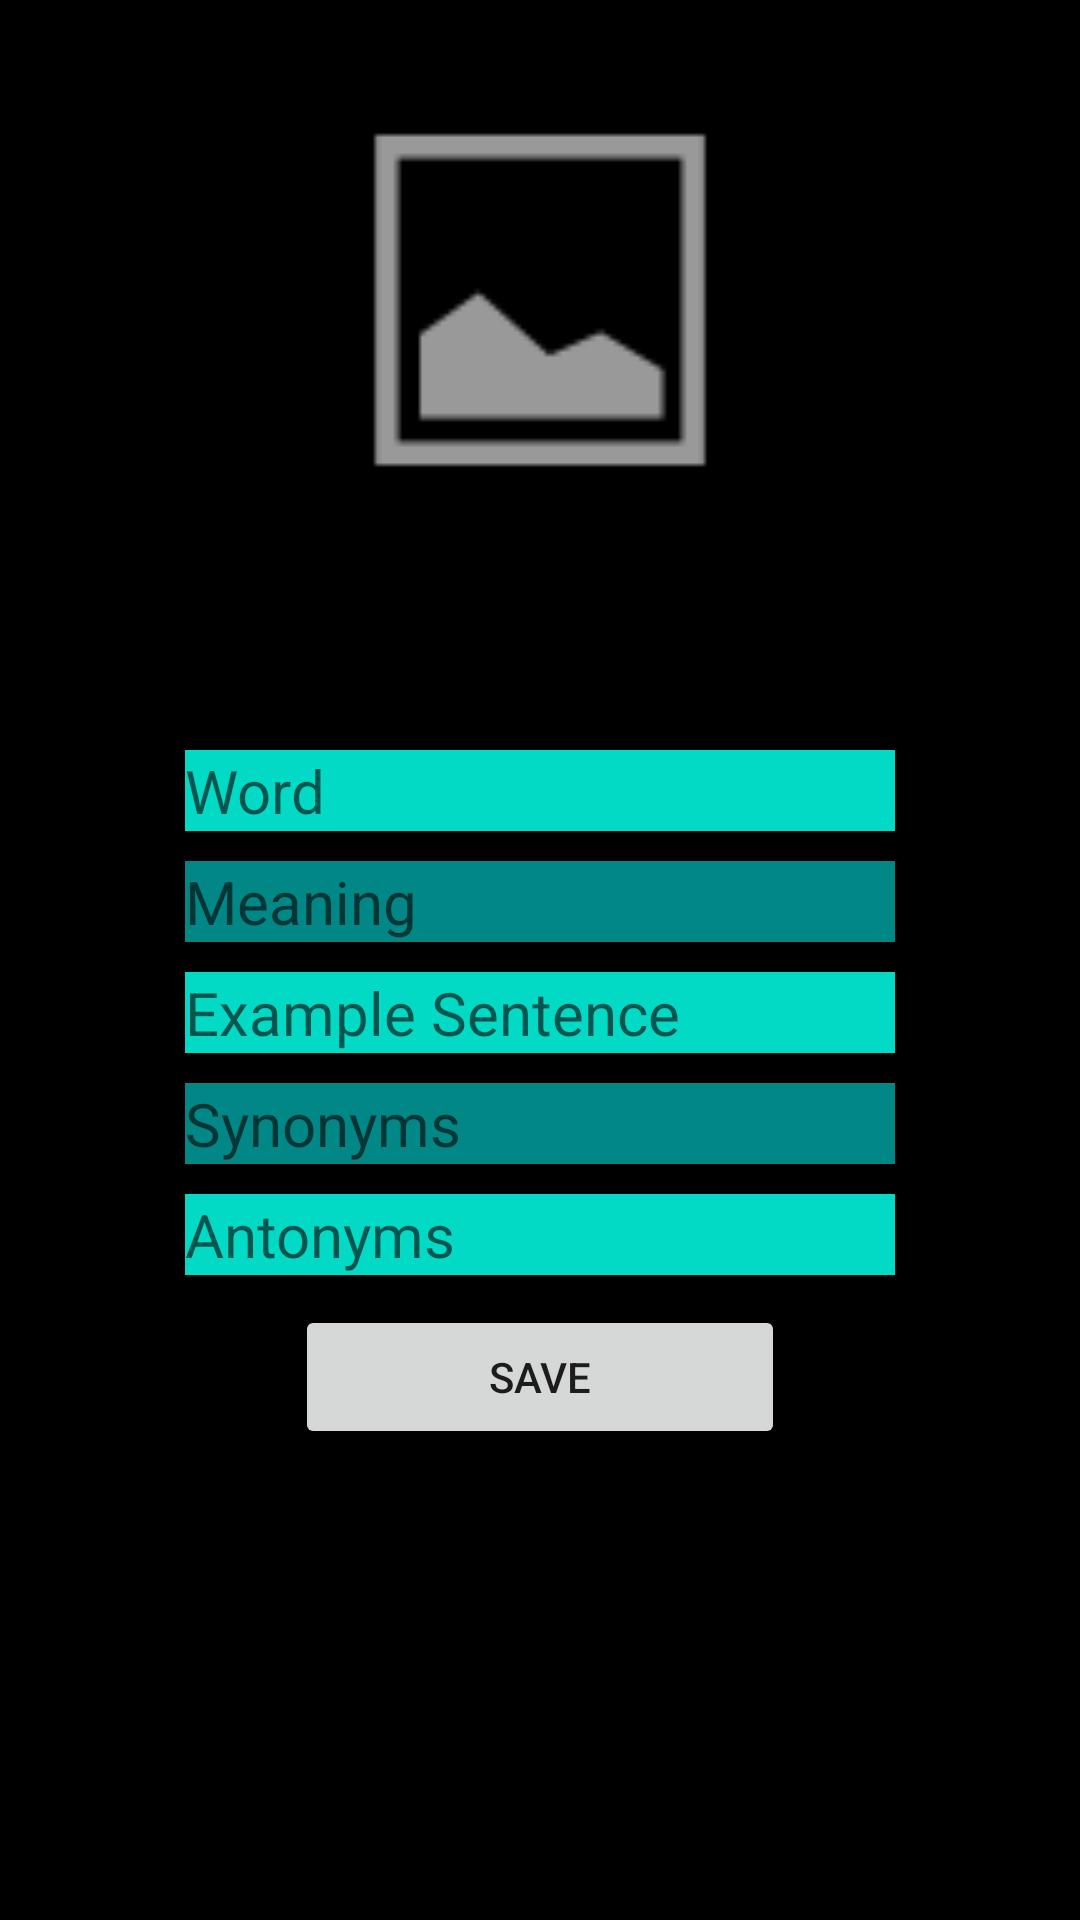

Locate icon controls on the screen. Image size 1080px x 1920px, boxes as rect(x1, y1, x2, y2).
gallery: rect(373, 133, 707, 467)
